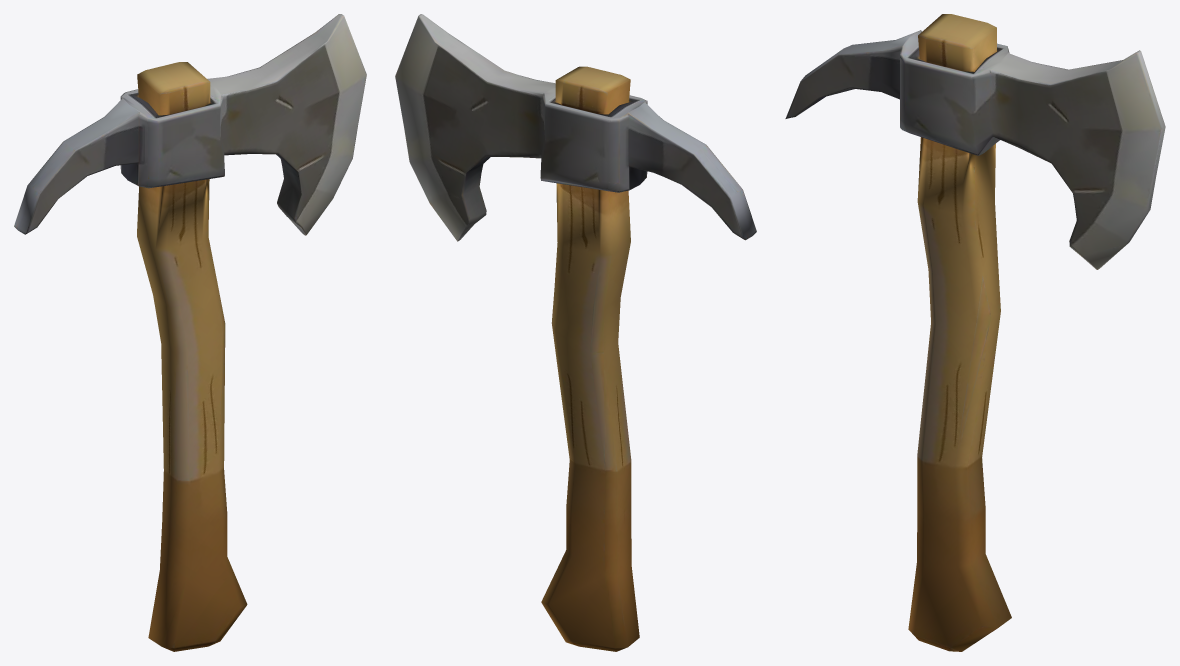
The model's file is ashwood_axe.glb.
3 renders of one model, left to right at view 1: azimuth 30°, elevation 25°; view 2: azimuth 150°, elevation 25°; view 3: azimuth 330°, elevation 25°, orthographic. The views are drawn at different scales.
Visible parts, largest first — view 1: tripo_node_e46745a8-3ab0-44b5-bb7b-8e7cfaf46f4a; view 2: tripo_node_e46745a8-3ab0-44b5-bb7b-8e7cfaf46f4a; view 3: tripo_node_e46745a8-3ab0-44b5-bb7b-8e7cfaf46f4a.
Part boxes in pixels (<box>): tripo_node_e46745a8-3ab0-44b5-bb7b-8e7cfaf46f4a: <box>14,14,366,651</box>; tripo_node_e46745a8-3ab0-44b5-bb7b-8e7cfaf46f4a: <box>395,14,756,651</box>; tripo_node_e46745a8-3ab0-44b5-bb7b-8e7cfaf46f4a: <box>785,14,1165,651</box>.
Bounding box in the file's own units: 0.9109 × 1.45 × 0.1844.
Materials: 1 (1 with a texture image).
